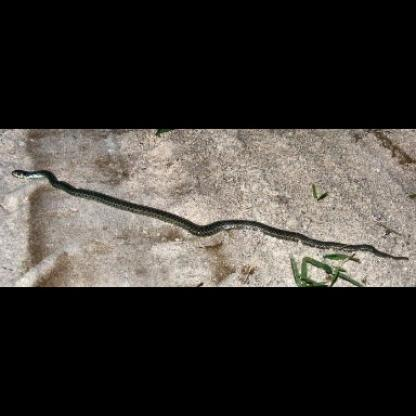Snake: (12, 160, 410, 262)
